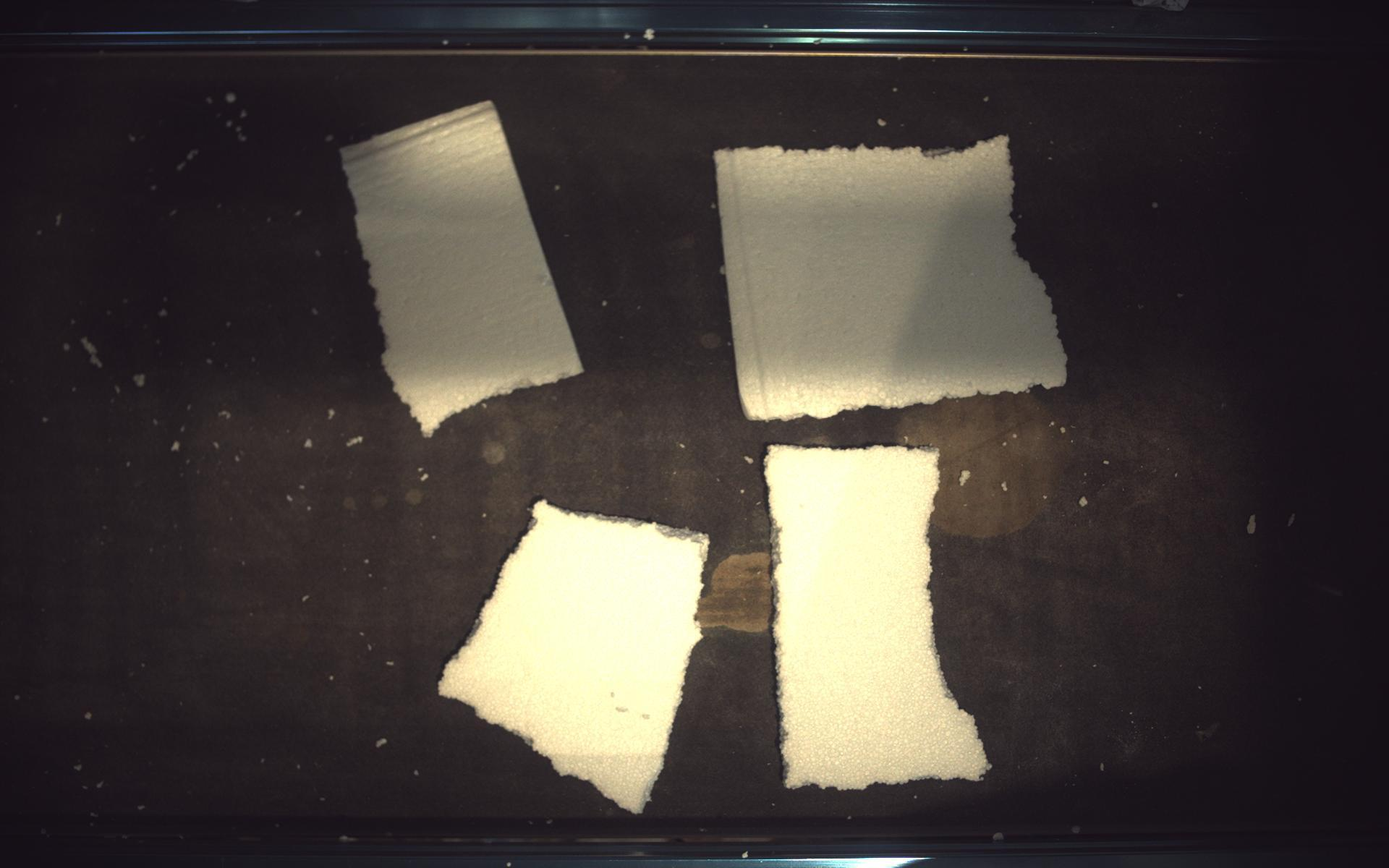foam: (716, 135, 1069, 420), (439, 501, 710, 814), (341, 100, 583, 435), (766, 446, 992, 791)
